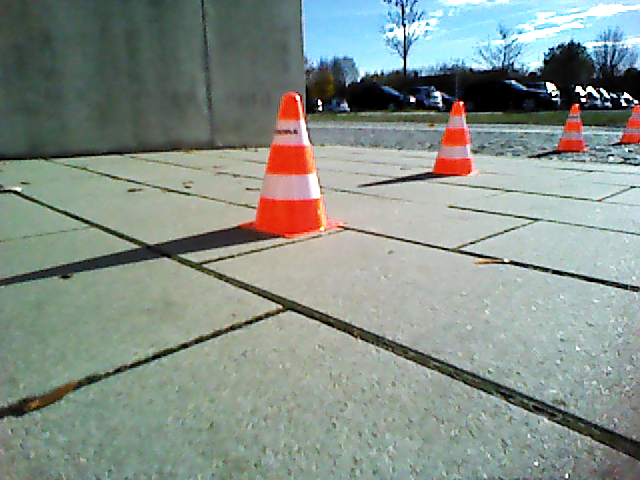orangeconesmall: (257, 94, 335, 235), (435, 101, 476, 176), (557, 105, 585, 151), (620, 105, 640, 143)
